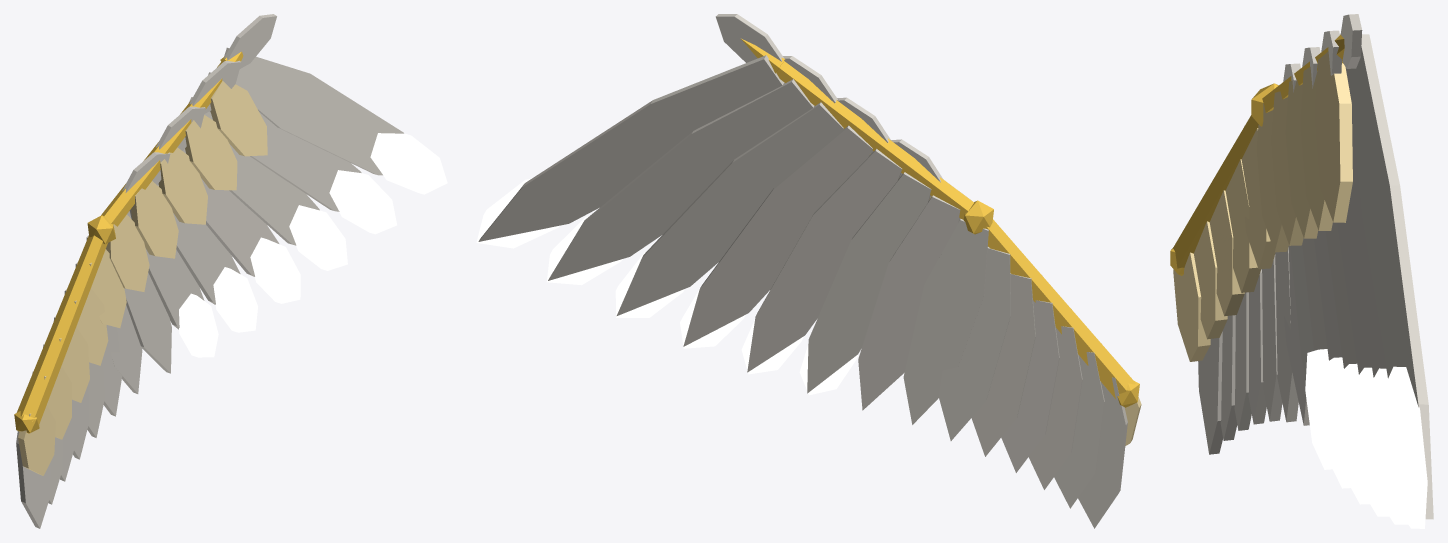
Rendered from S4_Light_Wings_L.fbx.
The picture shows the model from 3 angles, left to right: view 1: azimuth 30°, elevation 25°; view 2: azimuth 150°, elevation 25°; view 3: azimuth 270°, elevation 25°; orthographic projection. The views are drawn at different scales.
Parts seen in each view (by area): view 1: S4_Light_Wings_L; view 2: S4_Light_Wings_L; view 3: S4_Light_Wings_L.
Boxes of the visible parts, <box> form: S4_Light_Wings_L: <box>14,14,447,528</box>; S4_Light_Wings_L: <box>476,14,1141,528</box>; S4_Light_Wings_L: <box>1170,14,1433,528</box>.
Size of the model in its own units: 1.21 by 0.9501 by 0.3524.
